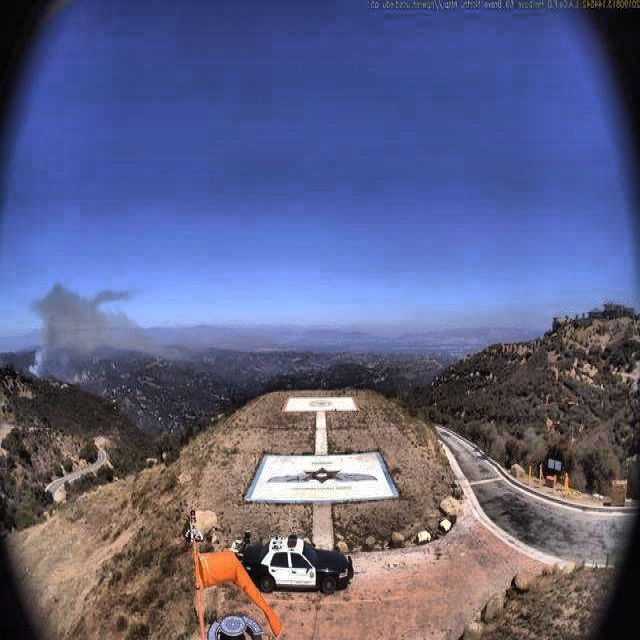smoke: (26, 277, 168, 383)
